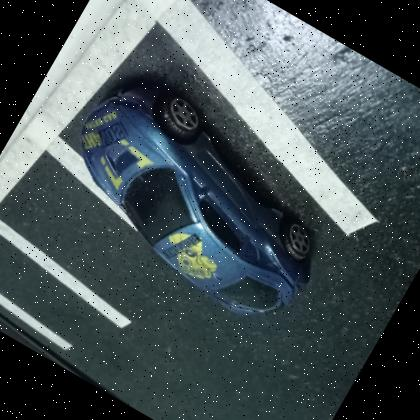Car: (36, 62, 359, 342)
